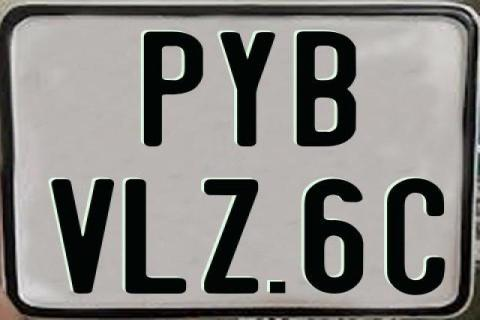0: (302, 177, 362, 297)
B: (294, 29, 355, 150)
C: (385, 177, 449, 293)
L: (123, 177, 189, 292)
P: (142, 31, 207, 146)
V: (50, 177, 118, 295)
Y: (219, 32, 275, 148)
Z: (202, 179, 256, 299)
